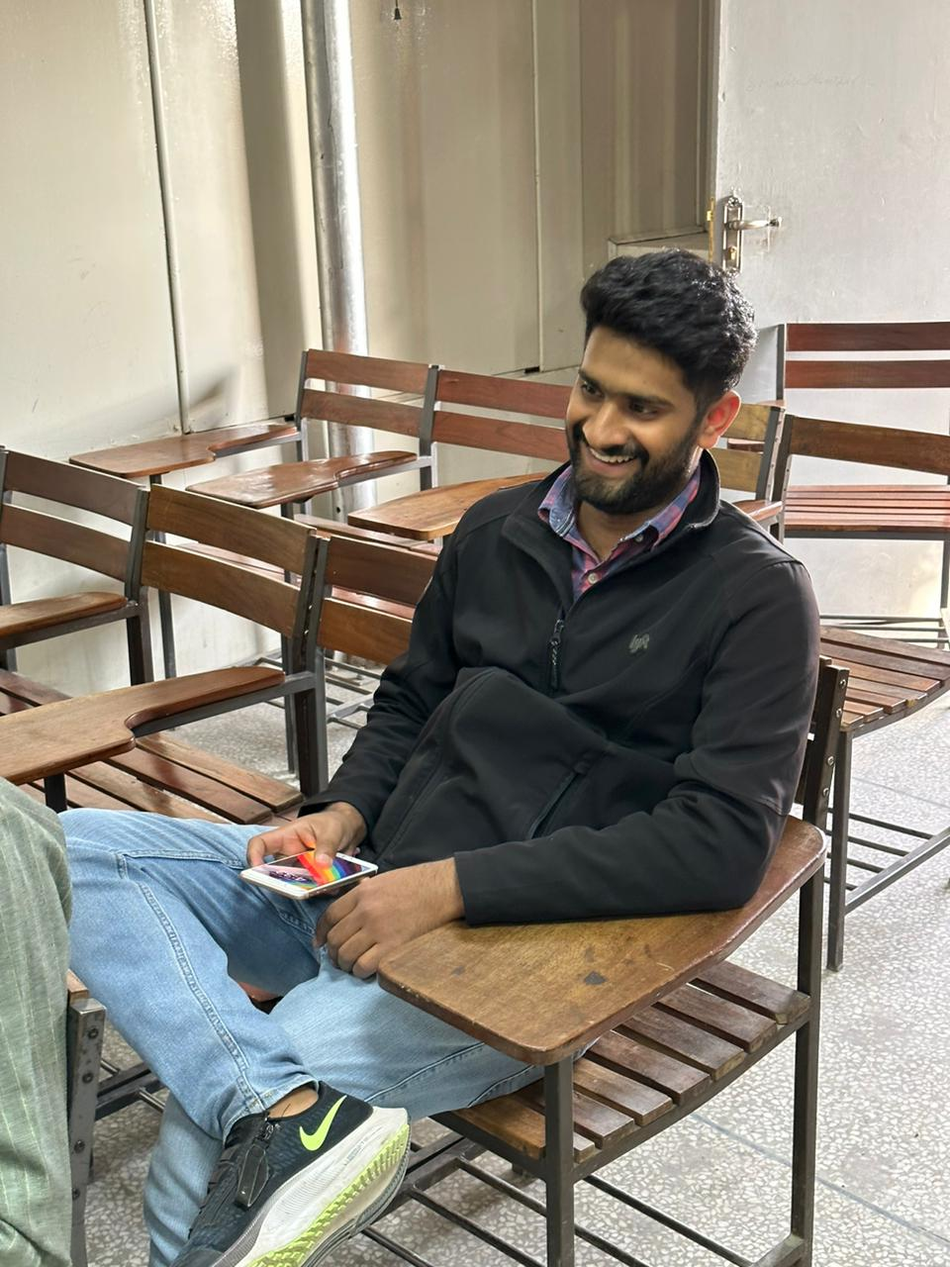phone: (236, 803, 382, 902)
